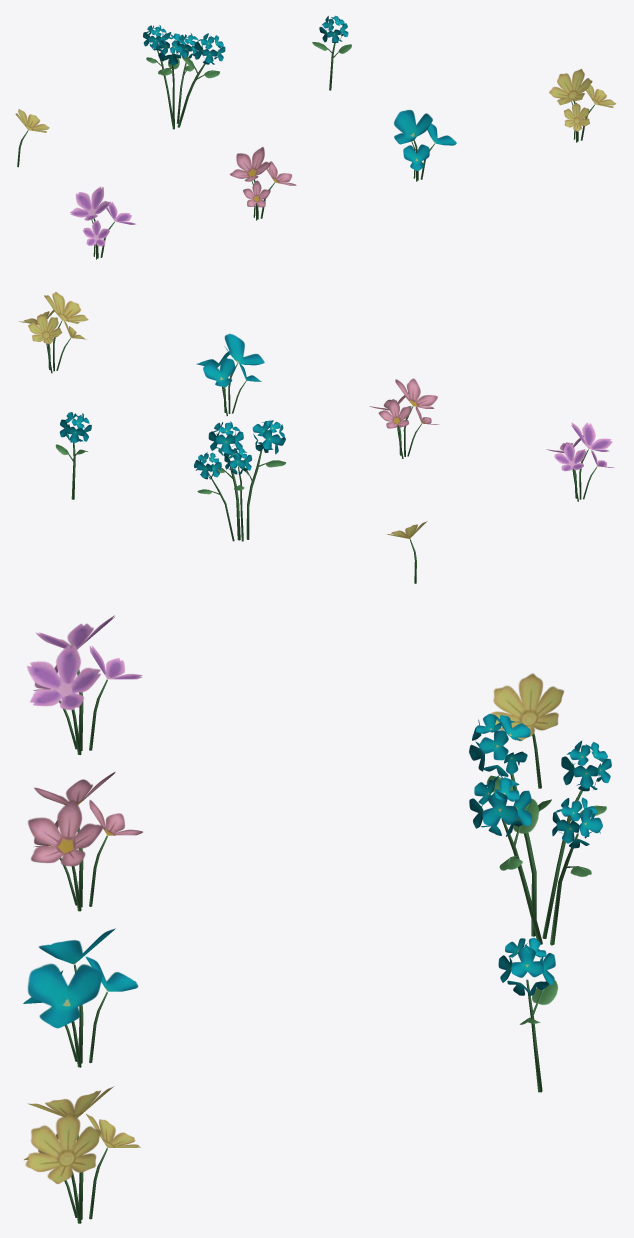
File: flora2_tiny_flowers.glb
3 views of the same model, one above another, from view 1: azimuth 30°, elevation 25°; view 2: azimuth 150°, elevation 25°; view 3: azimuth 270°, elevation 25° (orthographic). The views are drawn at different scales.
Visible parts, largest first — view 1: Flower_1_Clump, Flower_2_Clump, Flower_3_Clump, Flower_4_Clump, Flower_5_Clump, Flower_1, Flower_2; view 2: Flower_1_Clump, Flower_2_Clump, Flower_3_Clump, Flower_4_Clump, Flower_5_Clump, Flower_1; view 3: Flower_1_Clump, Flower_2_Clump, Flower_3_Clump, Flower_4_Clump, Flower_5_Clump, Flower_2, Flower_1.
Part boxes in pixels (left/top/right/bottom): Flower_1_Clump: left=143, top=25, right=225, bottom=129; Flower_2_Clump: left=549, top=69, right=616, bottom=142; Flower_3_Clump: left=394, top=110, right=456, bottom=181; Flower_4_Clump: left=230, top=147, right=296, bottom=220; Flower_5_Clump: left=69, top=186, right=135, bottom=259; Flower_1: left=312, top=15, right=351, bottom=90; Flower_2: left=15, top=109, right=49, bottom=167; Flower_1_Clump: left=194, top=420, right=286, bottom=541; Flower_2_Clump: left=19, top=292, right=88, bottom=373; Flower_3_Clump: left=196, top=333, right=264, bottom=415; Flower_4_Clump: left=369, top=378, right=438, bottom=458; Flower_5_Clump: left=546, top=422, right=614, bottom=501; Flower_1: left=55, top=412, right=91, bottom=499; Flower_1_Clump: left=469, top=713, right=611, bottom=945; Flower_2_Clump: left=24, top=1086, right=140, bottom=1223; Flower_3_Clump: left=23, top=928, right=138, bottom=1067; Flower_4_Clump: left=28, top=772, right=142, bottom=911; Flower_5_Clump: left=27, top=615, right=142, bottom=754; Flower_2: left=491, top=673, right=563, bottom=788; Flower_1: left=498, top=937, right=557, bottom=1092.
Bounding box in the file's own units: 3.59 × 0.6742 × 1.71.
1 material, 1 textured.
